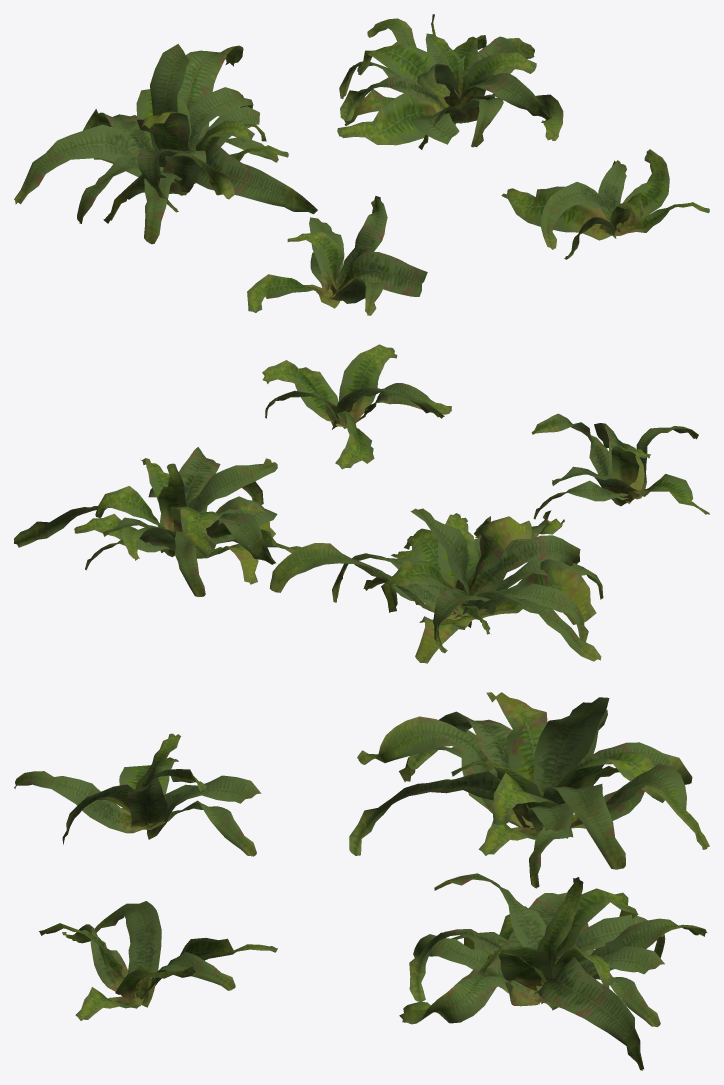
Rendered from fern_02.gltf.
3 views of the same model, one above another, from view 1: azimuth 30°, elevation 25°; view 2: azimuth 150°, elevation 25°; view 3: azimuth 270°, elevation 25° (orthographic). The views are drawn at different scales.
Parts seen in each view (by area): view 1: fern_02_b, fern_02_c, fern_02_d, fern_02_a; view 2: fern_02_b, fern_02_c, fern_02_d, fern_02_a; view 3: fern_02_b, fern_02_c, fern_02_a, fern_02_d.
Part boxes in pixels (left/top/right/bottom): fern_02_b: left=14, top=44, right=317, bottom=244; fern_02_c: left=337, top=14, right=563, bottom=149; fern_02_d: left=501, top=149, right=709, bottom=259; fern_02_a: left=247, top=196, right=427, bottom=315; fern_02_b: left=269, top=508, right=603, bottom=663; fern_02_c: left=14, top=447, right=300, bottom=596; fern_02_d: left=262, top=344, right=451, bottom=469; fern_02_a: left=531, top=413, right=709, bottom=519; fern_02_b: left=349, top=692, right=709, bottom=888; fern_02_c: left=399, top=873, right=707, bottom=1070; fern_02_a: left=14, top=733, right=261, bottom=856; fern_02_d: left=39, top=901, right=277, bottom=1020.
Bounding box in the file's own units: 1.97 × 0.4277 × 1.72.
1 material, 1 textured.
